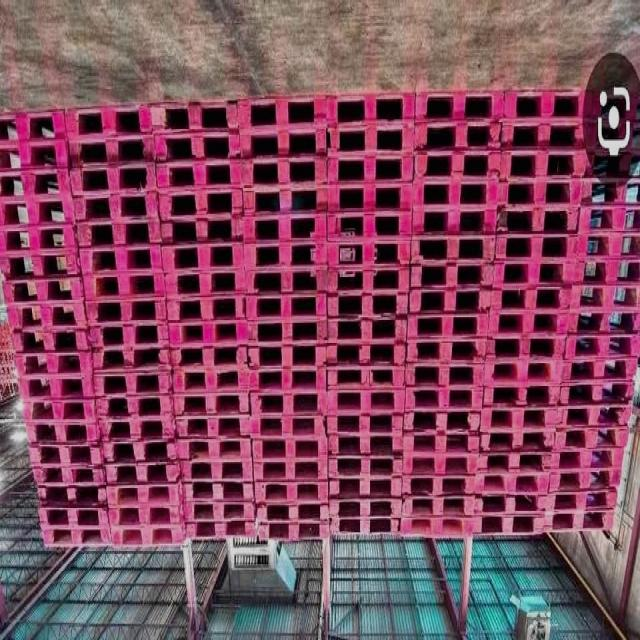non-igps: (64, 94, 156, 148), (411, 82, 508, 130), (68, 156, 161, 204), (412, 113, 503, 159), (236, 86, 329, 131), (62, 130, 158, 173), (502, 83, 594, 127), (410, 144, 504, 187), (75, 211, 166, 255), (71, 186, 164, 228), (152, 152, 245, 194), (492, 201, 582, 244), (148, 95, 242, 136), (76, 237, 167, 279), (497, 145, 589, 185), (484, 305, 571, 347), (80, 265, 169, 306), (83, 293, 171, 334), (495, 174, 585, 214), (500, 119, 590, 159), (151, 129, 243, 166), (322, 89, 418, 124), (488, 280, 574, 318), (324, 232, 414, 268), (108, 516, 188, 556), (404, 306, 492, 342), (492, 232, 580, 268), (0, 221, 81, 260), (482, 355, 565, 393), (553, 397, 633, 436), (411, 174, 502, 208), (325, 265, 413, 300), (324, 125, 417, 158), (0, 248, 85, 284), (0, 195, 78, 234), (324, 210, 416, 243), (407, 231, 499, 264), (90, 363, 176, 398), (0, 102, 68, 146), (491, 258, 578, 292), (484, 332, 568, 367), (87, 320, 172, 354), (405, 331, 490, 365), (409, 204, 499, 236), (560, 355, 640, 391), (568, 280, 640, 320), (239, 185, 331, 216), (324, 182, 416, 213), (159, 240, 248, 272), (407, 260, 496, 292), (473, 465, 551, 501), (105, 475, 185, 510), (238, 158, 331, 188), (237, 127, 328, 157), (13, 348, 98, 380), (92, 392, 177, 424), (565, 308, 640, 344), (324, 388, 408, 420), (570, 254, 640, 292), (558, 377, 636, 411), (157, 188, 245, 218), (478, 402, 558, 435), (90, 344, 175, 375), (325, 316, 410, 347), (325, 339, 407, 371), (16, 370, 97, 402), (481, 382, 562, 414), (7, 325, 93, 355), (327, 452, 405, 485), (562, 331, 640, 364), (107, 498, 187, 530), (0, 167, 73, 202), (240, 241, 331, 269), (476, 427, 558, 458), (163, 269, 250, 298), (246, 412, 330, 442), (552, 423, 630, 455), (0, 140, 71, 175), (242, 266, 330, 294), (406, 286, 494, 314), (166, 319, 250, 348), (246, 315, 330, 344), (402, 384, 486, 413), (101, 434, 182, 464), (398, 517, 484, 545), (97, 413, 180, 442), (172, 433, 255, 462), (241, 215, 330, 242), (102, 456, 182, 486), (326, 362, 406, 392), (473, 486, 548, 518), (583, 119, 640, 161), (325, 292, 410, 320), (402, 362, 487, 390), (325, 156, 416, 182), (400, 409, 484, 437), (163, 294, 250, 321), (575, 202, 640, 238), (547, 467, 622, 498), (169, 366, 252, 394), (542, 508, 616, 539), (470, 510, 546, 540), (20, 396, 101, 424), (246, 343, 330, 370), (476, 448, 554, 477), (582, 144, 640, 183), (35, 481, 110, 511), (170, 389, 253, 416), (247, 391, 330, 418), (159, 220, 245, 246), (243, 294, 329, 320), (545, 487, 619, 517), (26, 439, 107, 466), (325, 432, 406, 459), (578, 175, 640, 210), (24, 420, 104, 447), (168, 344, 251, 370), (0, 279, 86, 304), (328, 514, 404, 542), (587, 86, 640, 126), (177, 457, 255, 484), (401, 433, 482, 459), (4, 304, 91, 328), (172, 414, 252, 440), (573, 230, 640, 261), (245, 370, 330, 394), (399, 473, 477, 499), (181, 478, 258, 504), (550, 450, 624, 477), (39, 527, 114, 553), (179, 498, 259, 522), (251, 438, 331, 462), (399, 495, 479, 519), (325, 413, 407, 436), (183, 519, 260, 543), (30, 464, 110, 487), (252, 482, 331, 504), (324, 497, 405, 518), (36, 507, 112, 529), (253, 524, 332, 544), (324, 480, 404, 499), (401, 455, 481, 474), (251, 461, 330, 480), (254, 503, 332, 521)
